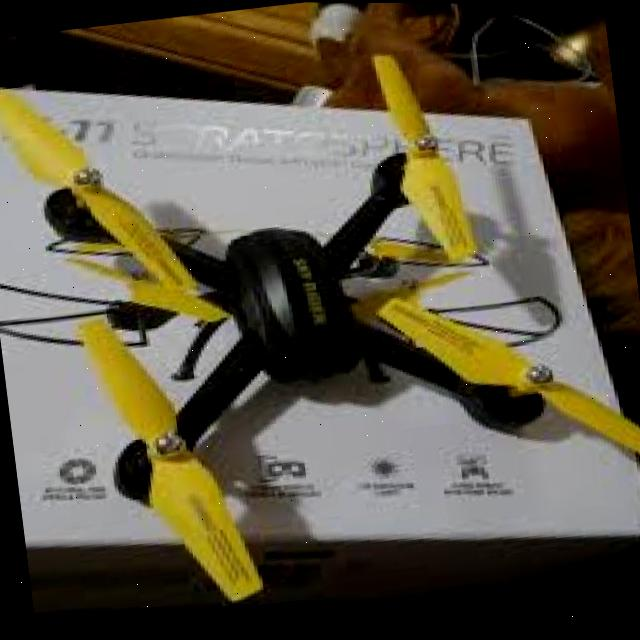drone: (0, 8, 640, 601)
